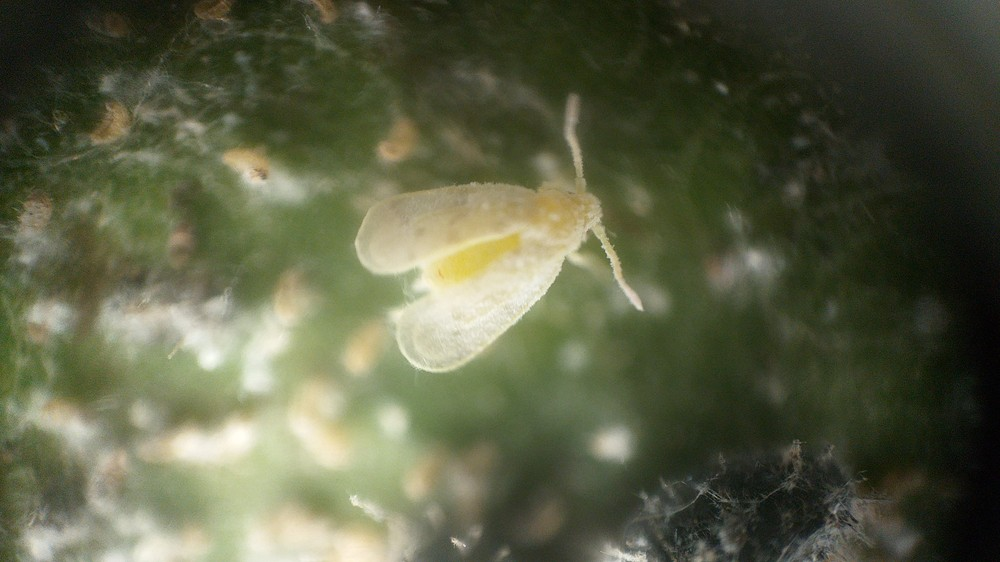Mosca Blanca: (334, 91, 666, 396)
